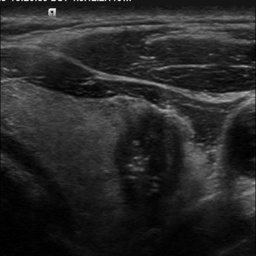mass: (111, 107, 186, 225)
